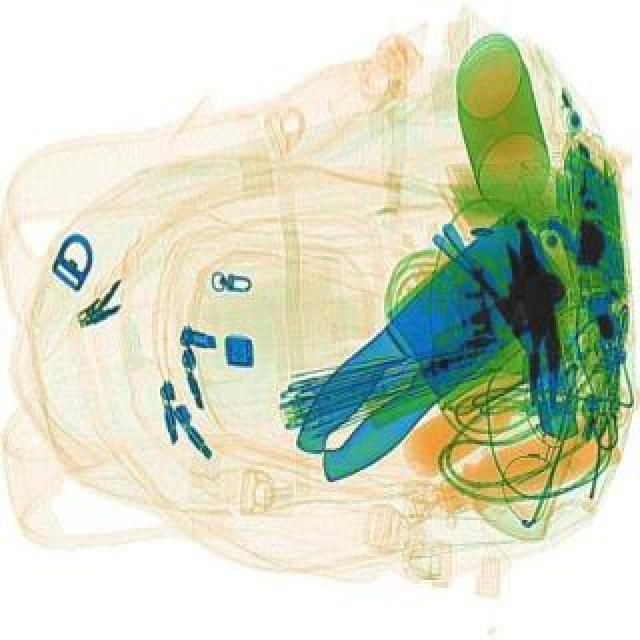knife: (260, 202, 588, 490), (270, 206, 590, 494)
